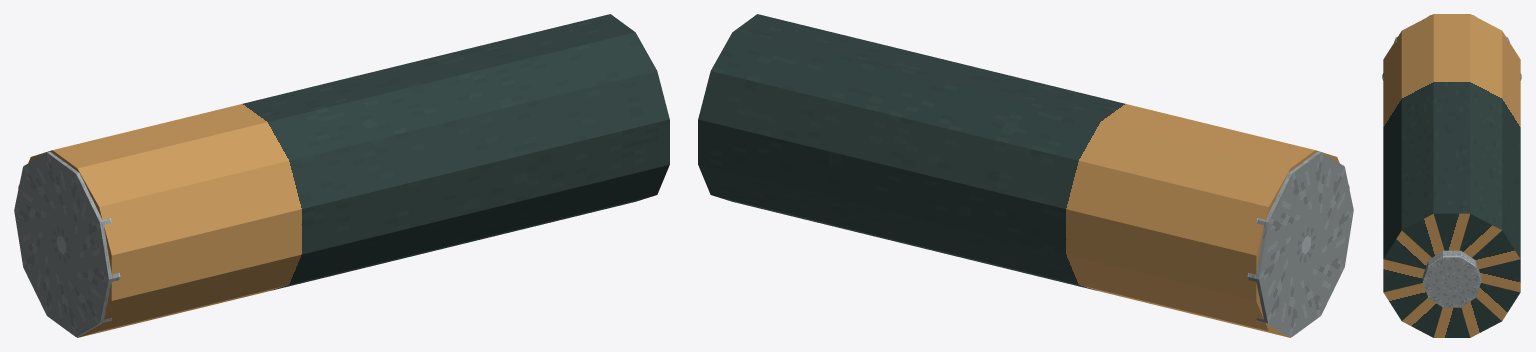
File: light_battery_cell.glb
3 renders of one model, left to right at view 1: azimuth 30°, elevation 25°; view 2: azimuth 150°, elevation 25°; view 3: azimuth 270°, elevation 25°, orthographic. The views are drawn at different scales.
Visible parts, largest first — view 1: block_wrapped alkaline cell, block_negative end; view 2: block_wrapped alkaline cell, block_negative end; view 3: block_wrapped alkaline cell, block_positive terminal.
Boxes of the visible parts, x1,y1,x2,y2 form: block_wrapped alkaline cell: (18,14,669,337); block_negative end: (14,151,120,337); block_wrapped alkaline cell: (698,14,1349,337); block_negative end: (1247,151,1353,337); block_wrapped alkaline cell: (1383,14,1520,337); block_positive terminal: (1422,250,1481,307).
Bounding box in the file's own units: 0.0505 × 0.0141 × 0.0143.
Materials: 1 (1 with a texture image).
